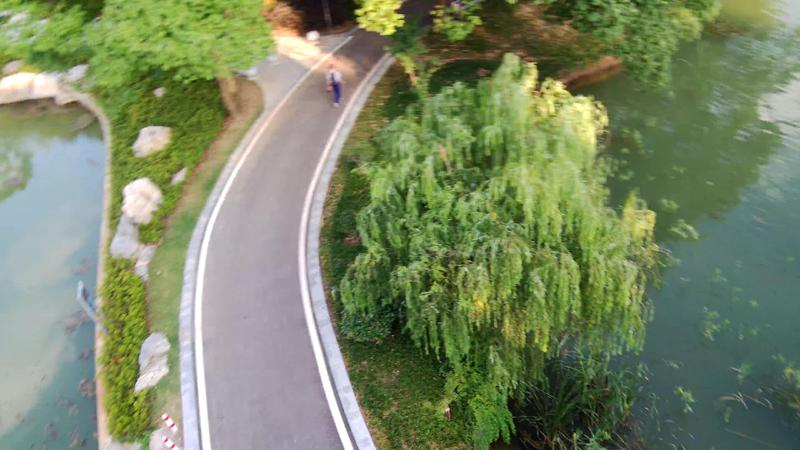passerby: (323, 60, 344, 108)
